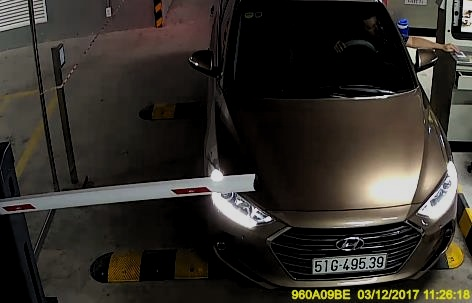plate: (308, 251, 389, 275)
